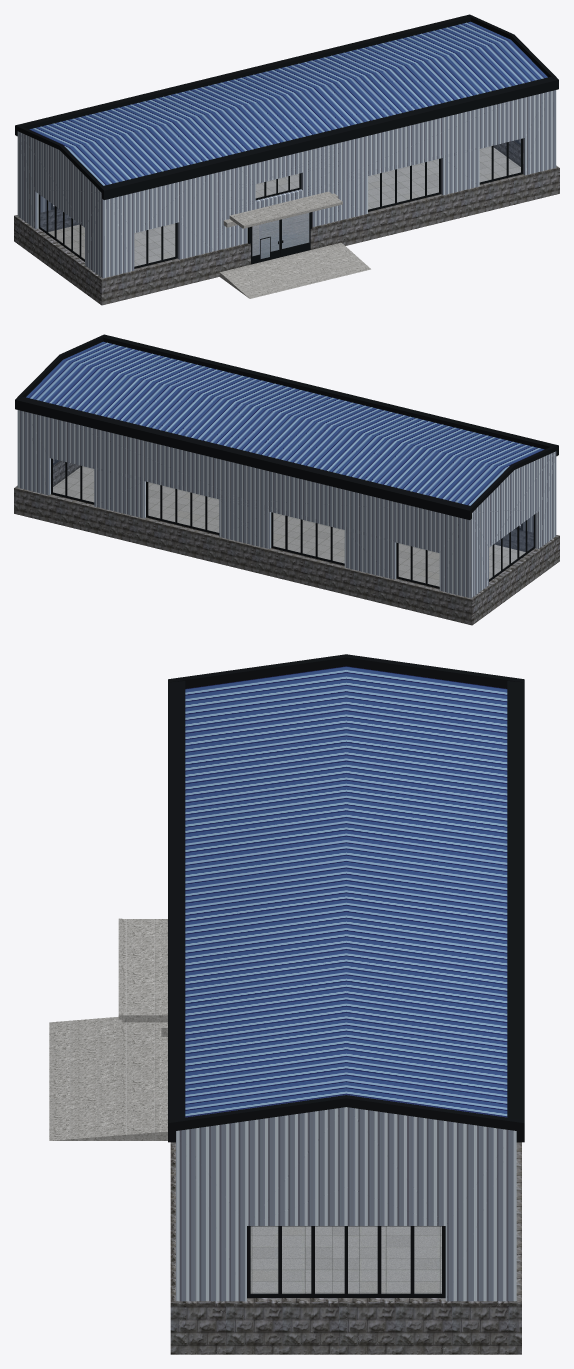
The model's file is changfanglan1.fbx.
3 renders of one model, top to bottom at view 1: azimuth 30°, elevation 25°; view 2: azimuth 150°, elevation 25°; view 3: azimuth 270°, elevation 25°, orthographic. The views are drawn at different scales.
Visible parts, largest first — view 1: 对象049, 对象046, 对象050, 对象047, 对象051, 对象053, 对象048, 对象045; view 2: 对象049, 对象046, 对象047, 对象050, 对象051, 对象048; view 3: 对象049, 对象046, 对象050, 对象047, 对象053, 对象048, 对象051.
Part boxes in pixels (x1,y1,x2,y2): 对象049: (29, 21, 547, 185); 对象046: (17, 90, 556, 278); 对象050: (15, 14, 558, 268); 对象047: (14, 139, 559, 305); 对象051: (40, 139, 520, 266); 对象053: (219, 191, 370, 298); 对象048: (48, 146, 520, 266); 对象045: (252, 213, 309, 258); 对象049: (26, 341, 544, 505); 对象046: (17, 410, 556, 598); 对象047: (14, 459, 559, 625); 对象050: (15, 334, 558, 588); 对象051: (53, 459, 533, 586); 对象048: (53, 466, 525, 586); 对象049: (185, 666, 507, 1117); 对象046: (176, 1107, 516, 1301); 对象050: (168, 654, 524, 1297); 对象047: (170, 1142, 521, 1354); 对象053: (49, 918, 167, 1140); 对象048: (250, 1226, 441, 1293); 对象051: (251, 1226, 441, 1293).
Size of the model in its own units: 86.1 by 22.88 by 38.69.
8 materials, 6 textured.
